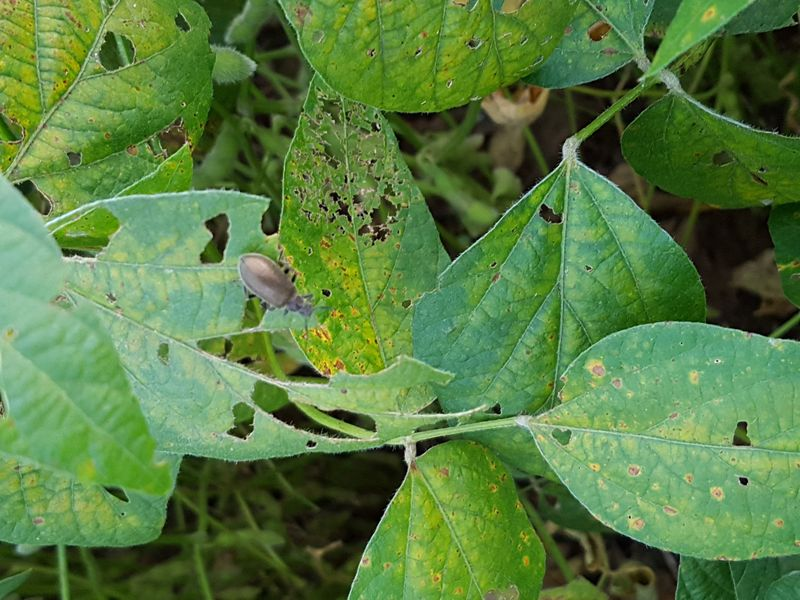Lagria_villosa: (219, 243, 323, 339)
